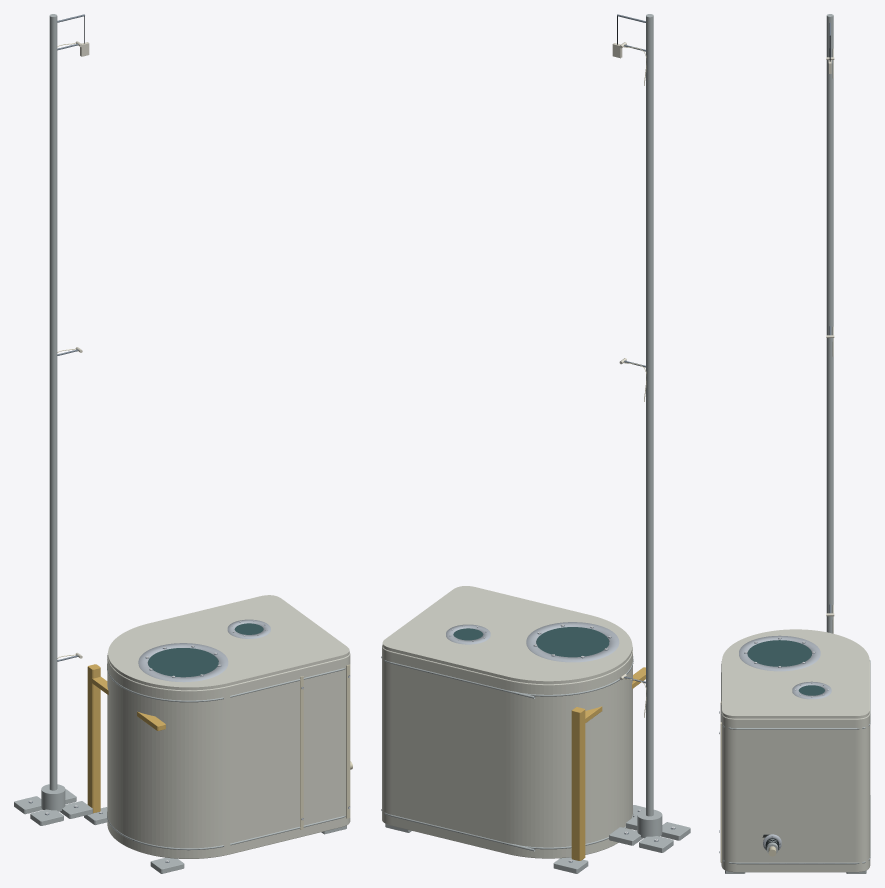
File: phoenix-met.glb
The picture shows the model from 3 angles, left to right: view 1: azimuth 30°, elevation 25°; view 2: azimuth 150°, elevation 25°; view 3: azimuth 270°, elevation 25°; orthographic projection. The views are drawn at different scales.
Parts seen in each view (by area): view 1: LIDAR_CHASSIS_Phoenix_silver_multilayer_thermal_blanket, LIDAR_CHASSIS_COVER_Phoenix_silver_multilayer_thermal_blanke, TEMPERATURE_MAST_Phoenix_machined_aluminium, LIDAR_ANODIZED_FRAME_Phoenix_gold_multilayer_thermal_blanket, LIDAR_OPTICAL_WINDOWS_Phoenix_optical_objective, LIDAR_JACKET_RETENTION_Phoenix_white_cable_insulation, BORED_FLANGE_0_Machined_aluminium, LIDAR_JACKET_RETENTION_Phoenix_machined_aluminium, LIDAR_CHASSIS_Phoenix_machined_aluminium; view 2: LIDAR_CHASSIS_Phoenix_silver_multilayer_thermal_blanket, LIDAR_CHASSIS_COVER_Phoenix_silver_multilayer_thermal_blanke, TEMPERATURE_MAST_Phoenix_machined_aluminium, LIDAR_ANODIZED_FRAME_Phoenix_gold_multilayer_thermal_blanket, LIDAR_OPTICAL_WINDOWS_Phoenix_optical_objective, BORED_FLANGE_0_Machined_aluminium, LIDAR_JACKET_RETENTION_Phoenix_machined_aluminium, LIDAR_CHASSIS_Phoenix_machined_aluminium; view 3: LIDAR_CHASSIS_Phoenix_silver_multilayer_thermal_blanket, LIDAR_CHASSIS_COVER_Phoenix_silver_multilayer_thermal_blanke, TEMPERATURE_MAST_Phoenix_machined_aluminium, LIDAR_OPTICAL_WINDOWS_Phoenix_optical_objective, BORED_FLANGE_0_Machined_aluminium, LIDAR_JACKET_RETENTION_Phoenix_machined_aluminium, BORED_FLANGE_2_Machined_aluminium.
Part boxes in pixels (x1=…): LIDAR_CHASSIS_Phoenix_silver_multilayer_thermal_blanket: x1=107, y1=652, x2=350, y2=858; LIDAR_CHASSIS_COVER_Phoenix_silver_multilayer_thermal_blanke: x1=108, y1=595, x2=349, y2=690; TEMPERATURE_MAST_Phoenix_machined_aluminium: x1=14, y1=14, x2=92, y2=825; LIDAR_ANODIZED_FRAME_Phoenix_gold_multilayer_thermal_blanket: x1=87, y1=664, x2=165, y2=813; LIDAR_OPTICAL_WINDOWS_Phoenix_optical_objective: x1=148, y1=623, x2=263, y2=677; LIDAR_JACKET_RETENTION_Phoenix_white_cable_insulation: x1=300, y1=664, x2=350, y2=829; BORED_FLANGE_0_Machined_aluminium: x1=138, y1=643, x2=228, y2=682; LIDAR_JACKET_RETENTION_Phoenix_machined_aluminium: x1=107, y1=664, x2=345, y2=850; LIDAR_CHASSIS_Phoenix_machined_aluminium: x1=84, y1=807, x2=346, y2=873; LIDAR_CHASSIS_Phoenix_silver_multilayer_thermal_blanket: x1=382, y1=645, x2=632, y2=858; LIDAR_CHASSIS_COVER_Phoenix_silver_multilayer_thermal_blanke: x1=382, y1=586, x2=632, y2=684; TEMPERATURE_MAST_Phoenix_machined_aluminium: x1=609, y1=14, x2=690, y2=852; LIDAR_ANODIZED_FRAME_Phoenix_gold_multilayer_thermal_blanket: x1=571, y1=667, x2=645, y2=860; LIDAR_OPTICAL_WINDOWS_Phoenix_optical_objective: x1=453, y1=627, x2=609, y2=657; BORED_FLANGE_0_Machined_aluminium: x1=526, y1=622, x2=619, y2=662; LIDAR_JACKET_RETENTION_Phoenix_machined_aluminium: x1=381, y1=656, x2=633, y2=851; LIDAR_CHASSIS_Phoenix_machined_aluminium: x1=385, y1=805, x2=654, y2=873; LIDAR_CHASSIS_Phoenix_silver_multilayer_thermal_blanket: x1=721, y1=661, x2=870, y2=872; LIDAR_CHASSIS_COVER_Phoenix_silver_multilayer_thermal_blanke: x1=722, y1=629, x2=869, y2=718; TEMPERATURE_MAST_Phoenix_machined_aluminium: x1=826, y1=14, x2=833, y2=633; LIDAR_OPTICAL_WINDOWS_Phoenix_optical_objective: x1=747, y1=640, x2=824, y2=695; BORED_FLANGE_0_Machined_aluminium: x1=739, y1=635, x2=820, y2=671; LIDAR_JACKET_RETENTION_Phoenix_machined_aluminium: x1=721, y1=660, x2=870, y2=864; BORED_FLANGE_2_Machined_aluminium: x1=792, y1=681, x2=831, y2=699.
Size of the model in its own units: 0.4197 by 1.14 by 0.2074.
